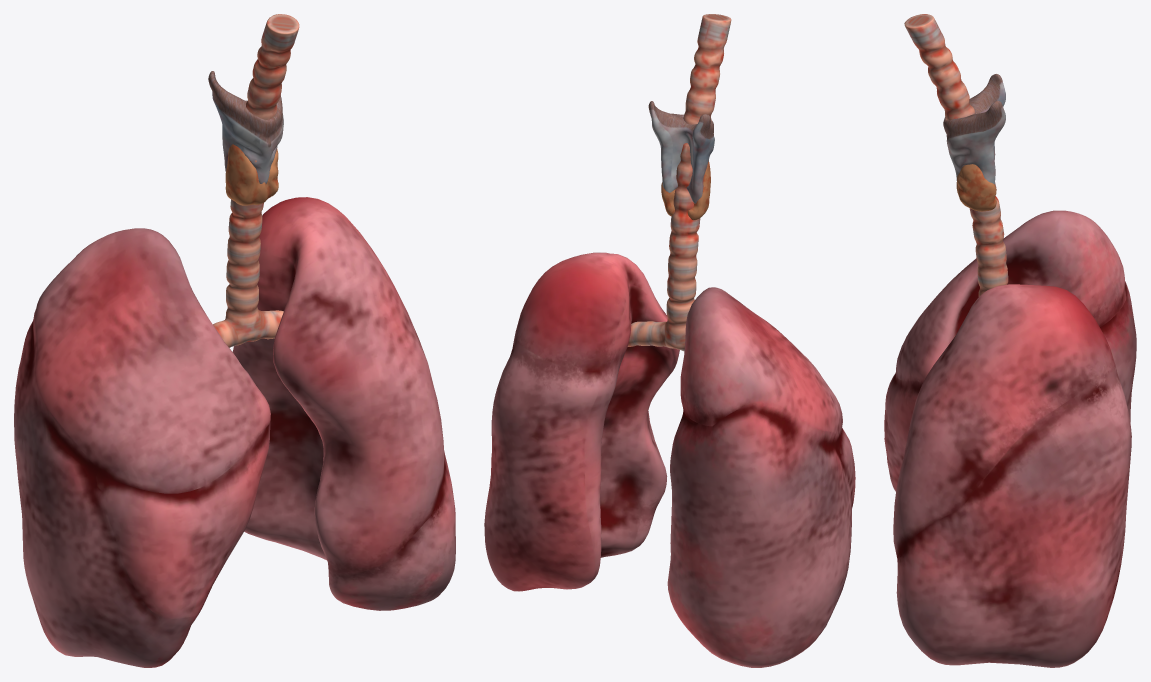
File: torax-alta-mapa.glb
3 views of the same model, side by side, from view 1: azimuth 30°, elevation 25°; view 2: azimuth 150°, elevation 25°; view 3: azimuth 270°, elevation 25° (orthographic). The views are drawn at different scales.
Visible parts, largest first — view 1: thairoid01:low_part02_Group6344:Group24638_thairoid01:lungh_, thairoid01:low_part01_Group6344:Group18522_thairoid01:lungh_; view 2: thairoid01:low_part02_Group6344:Group24638_thairoid01:lungh_, thairoid01:low_part01_Group6344:Group18522_thairoid01:lungh_; view 3: thairoid01:low_part02_Group6344:Group24638_thairoid01:lungh_, thairoid01:low_part01_Group6344:Group18522_thairoid01:lungh_.
Part boxes in pixels (left/top/right/bottom): thairoid01:low_part02_Group6344:Group24638_thairoid01:lungh_: left=14, top=197, right=455, bottom=667; thairoid01:low_part01_Group6344:Group18522_thairoid01:lungh_: left=208, top=14, right=299, bottom=347; thairoid01:low_part02_Group6344:Group24638_thairoid01:lungh_: left=484, top=252, right=855, bottom=667; thairoid01:low_part01_Group6344:Group18522_thairoid01:lungh_: left=627, top=14, right=731, bottom=351; thairoid01:low_part02_Group6344:Group24638_thairoid01:lungh_: left=884, top=210, right=1136, bottom=667; thairoid01:low_part01_Group6344:Group18522_thairoid01:lungh_: left=904, top=14, right=1008, bottom=296.
Bounding box in the file's own units: 0.2232 × 0.3687 × 0.1423.
Materials: 2 (2 with a texture image).
